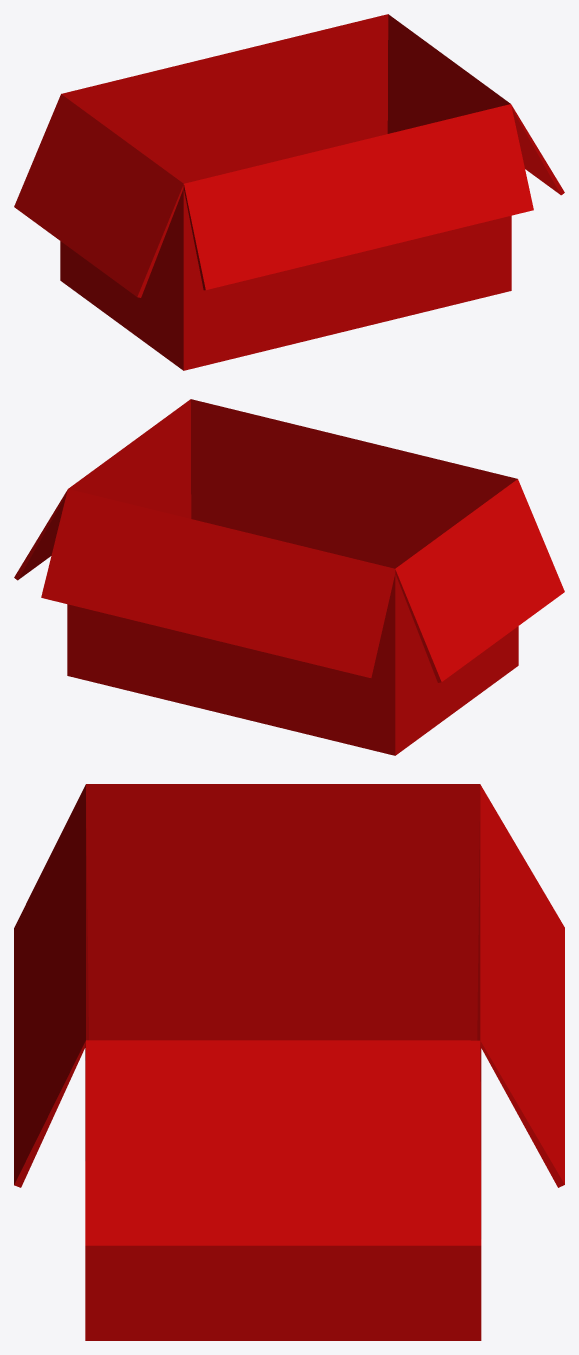
The model's file is Attic_CardboardBox_03_LP.glb.
The picture shows the model from 3 angles, top to bottom: view 1: azimuth 30°, elevation 25°; view 2: azimuth 150°, elevation 25°; view 3: azimuth 270°, elevation 25°; orthographic projection. The views are drawn at different scales.
Parts seen in each view (by area): view 1: Attic_CardboardBox_03_LP; view 2: Attic_CardboardBox_03_LP; view 3: Attic_CardboardBox_03_LP.
Part boxes in pixels (<box>): Attic_CardboardBox_03_LP: <box>14,14,564,370</box>; Attic_CardboardBox_03_LP: <box>14,399,564,755</box>; Attic_CardboardBox_03_LP: <box>14,784,564,1340</box>.
Size of the model in its own units: 0.9217 by 0.3847 by 0.6403.
